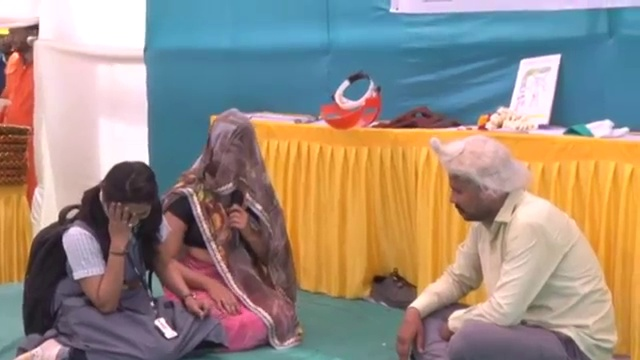helmet_off: (441, 135, 521, 232), (94, 164, 160, 232), (203, 115, 259, 184), (6, 16, 39, 55)
person: (389, 135, 616, 360), (14, 167, 227, 360), (158, 120, 303, 353), (0, 11, 41, 126)
